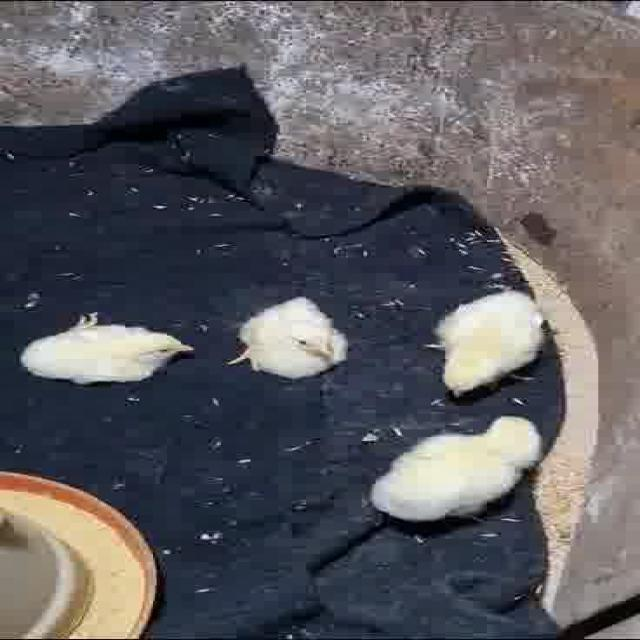poussin: (368, 415, 542, 525), (431, 284, 545, 404), (20, 318, 198, 385), (225, 293, 348, 382)
